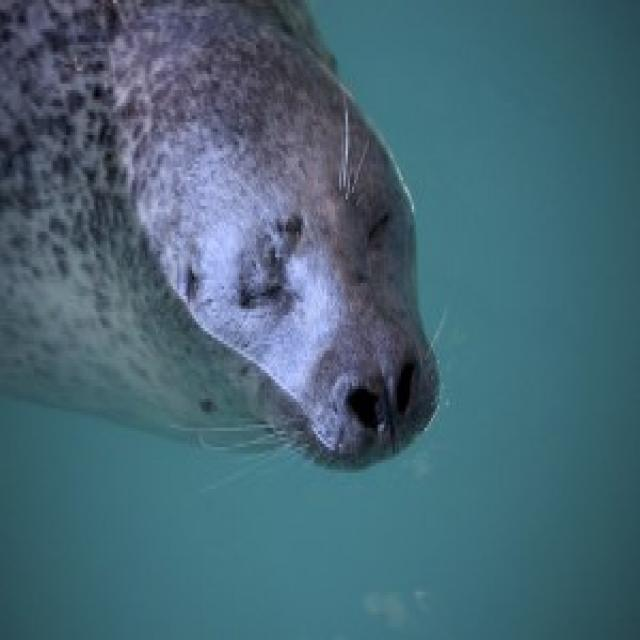Seal: (0, 10, 457, 477)
